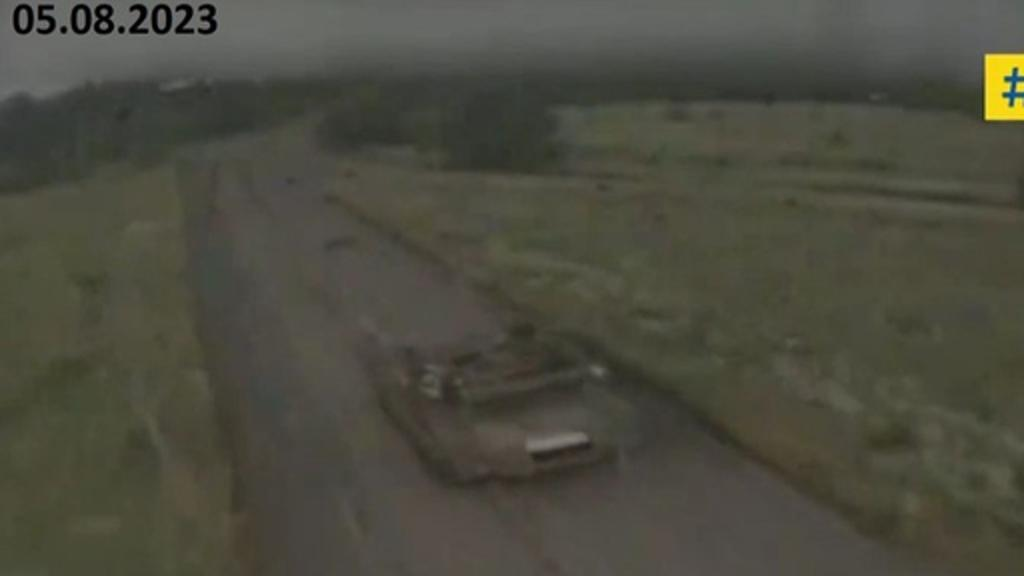TANK: (356, 306, 622, 482)
